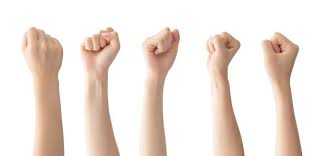fist: (79, 30, 127, 70), (21, 29, 62, 74), (262, 32, 299, 81), (143, 28, 182, 71), (207, 33, 238, 70)
